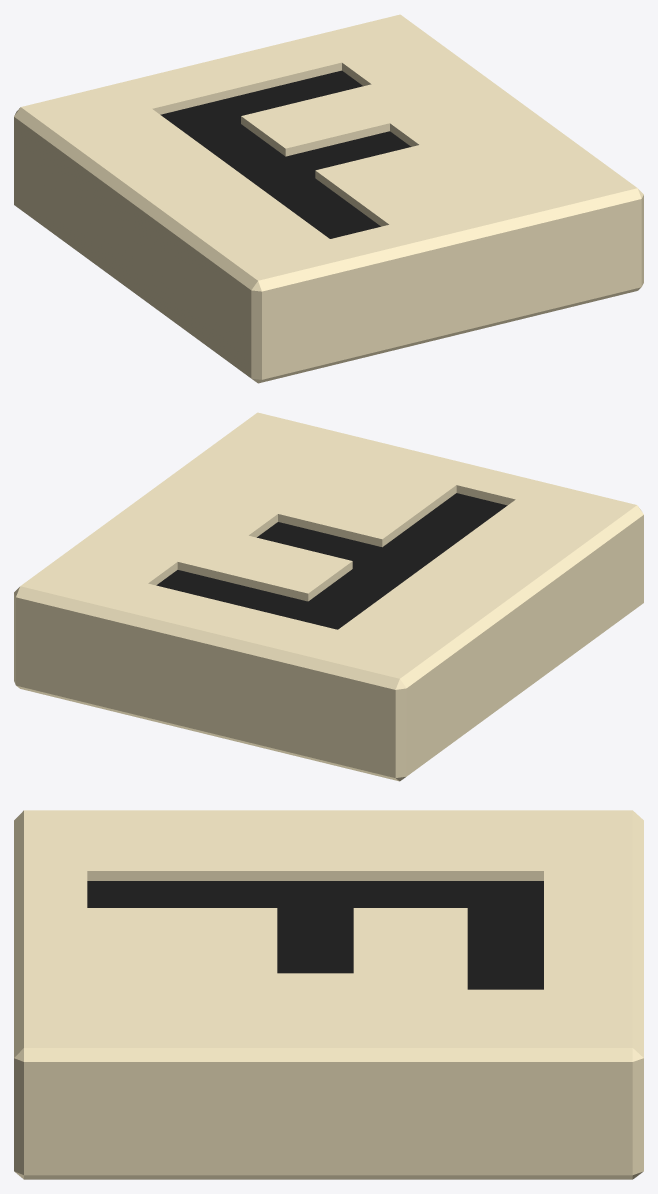
Rendered from Boardgame_Piece_Anagram_Letter_F_01.fbx.
The picture shows the model from 3 angles, top to bottom: view 1: azimuth 30°, elevation 25°; view 2: azimuth 150°, elevation 25°; view 3: azimuth 270°, elevation 25°; orthographic projection. The views are drawn at different scales.
Parts seen in each view (by area): view 1: Boardgame_Piece_Anagram_Letter_F_01; view 2: Boardgame_Piece_Anagram_Letter_F_01; view 3: Boardgame_Piece_Anagram_Letter_F_01.
Part boxes in pixels (bbox=[...]): Boardgame_Piece_Anagram_Letter_F_01: bbox=[14, 14, 643, 383]; Boardgame_Piece_Anagram_Letter_F_01: bbox=[14, 412, 643, 781]; Boardgame_Piece_Anagram_Letter_F_01: bbox=[14, 810, 643, 1179].
Bounding box in the file's own units: 1000 × 250 × 1083.
